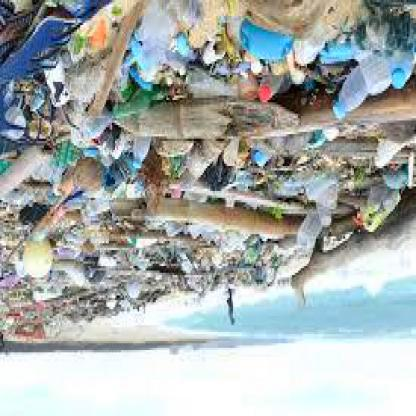Plastic: (330, 61, 374, 123), (240, 21, 290, 56), (364, 47, 392, 96), (387, 47, 415, 89), (298, 211, 327, 250), (130, 138, 149, 172)
